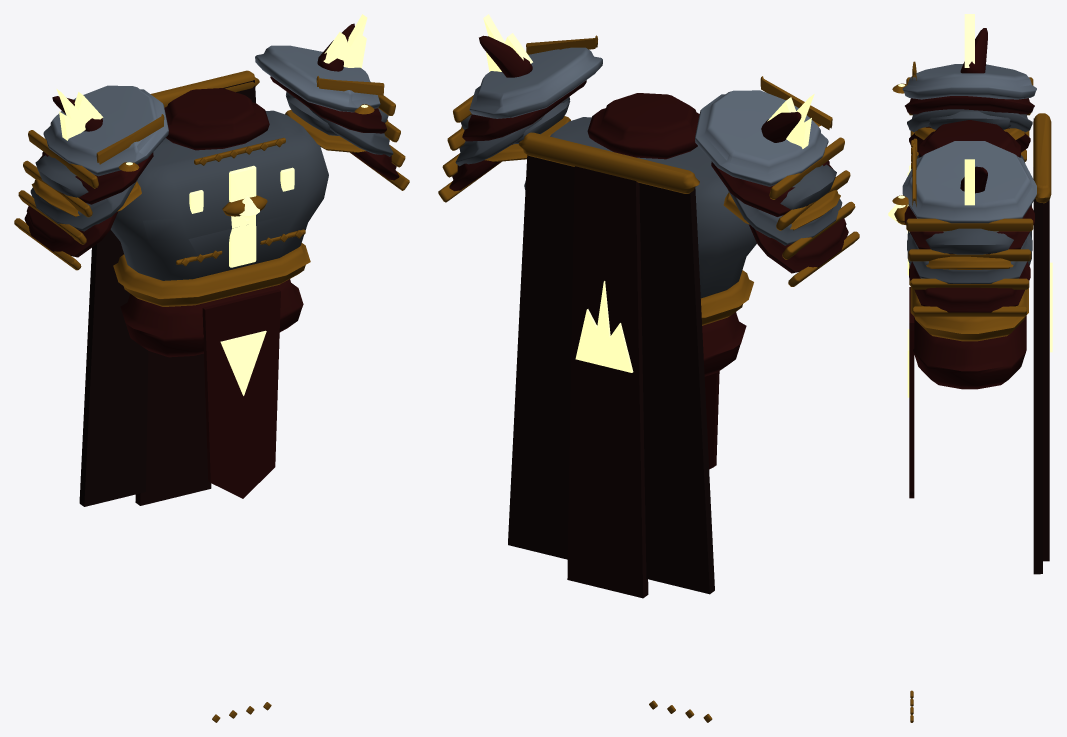
File: Bastiao_Armadura.fbx
3 renders of one model, left to right at view 1: azimuth 30°, elevation 25°; view 2: azimuth 150°, elevation 25°; view 3: azimuth 270°, elevation 25°, orthographic. The views are drawn at different scales.
Visible parts, largest first — view 1: Piece; view 2: Piece; view 3: Piece.
Boxes of the visible parts, x1=… form: Piece: x1=14, y1=14, x2=409, y2=722; Piece: x1=438, y1=14, x2=859, y2=722; Piece: x1=888, y1=14, x2=1052, y2=722.
Bounding box in the file's own units: 0.8979 × 1.62 × 0.385.
